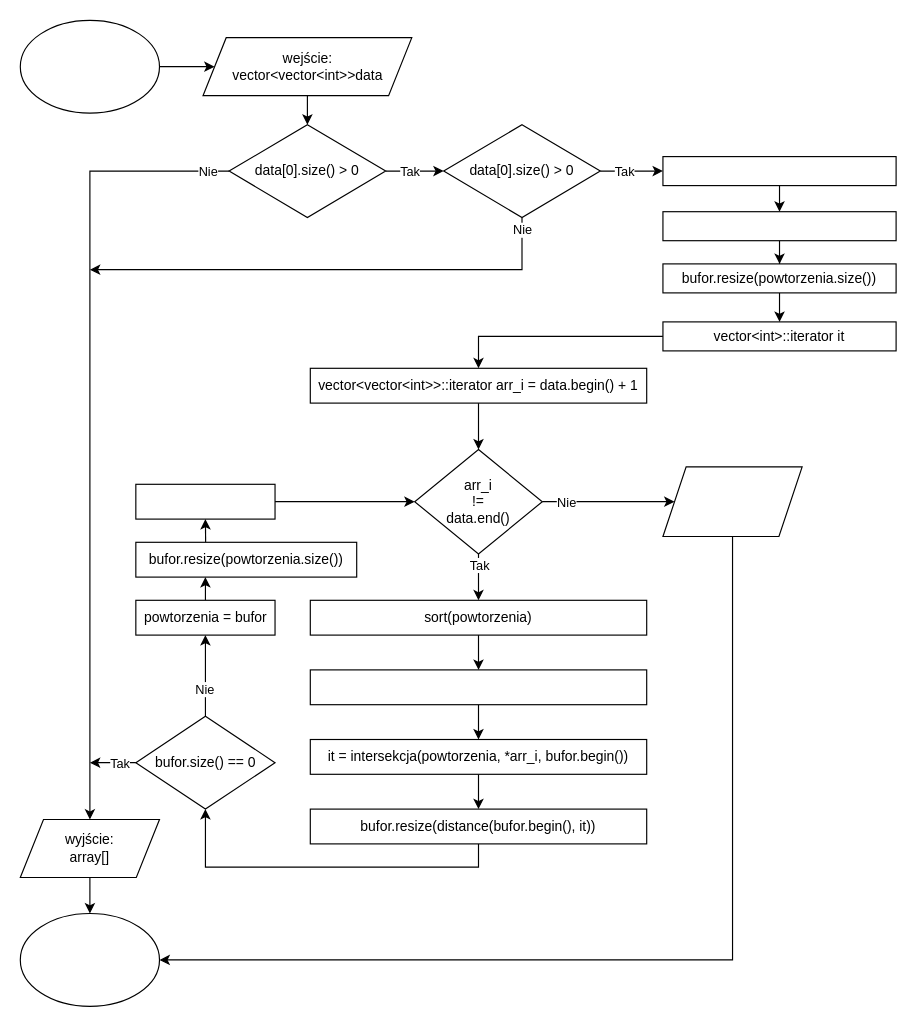
The diagram is 916 pixels wide and 1027 high, and some of its shapes have lost their labels. Here are the shapes that lost their labels. From the top down, the box of each, then its label:
(19, 19, 160, 113): START
(662, 155, 896, 186): vector<int> powtorzenia = data[0]
(662, 211, 896, 241): vector<int> bufor
(135, 483, 275, 519): arr_i += 1
(662, 466, 802, 536): wyjście: powtorzenia
(309, 669, 647, 705): sort(*arr_i)
(19, 912, 160, 1006): END
